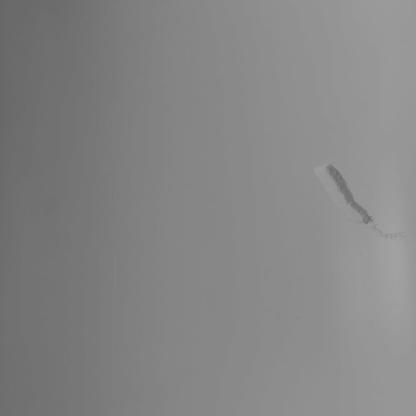sunshang: (315, 162, 375, 227)
